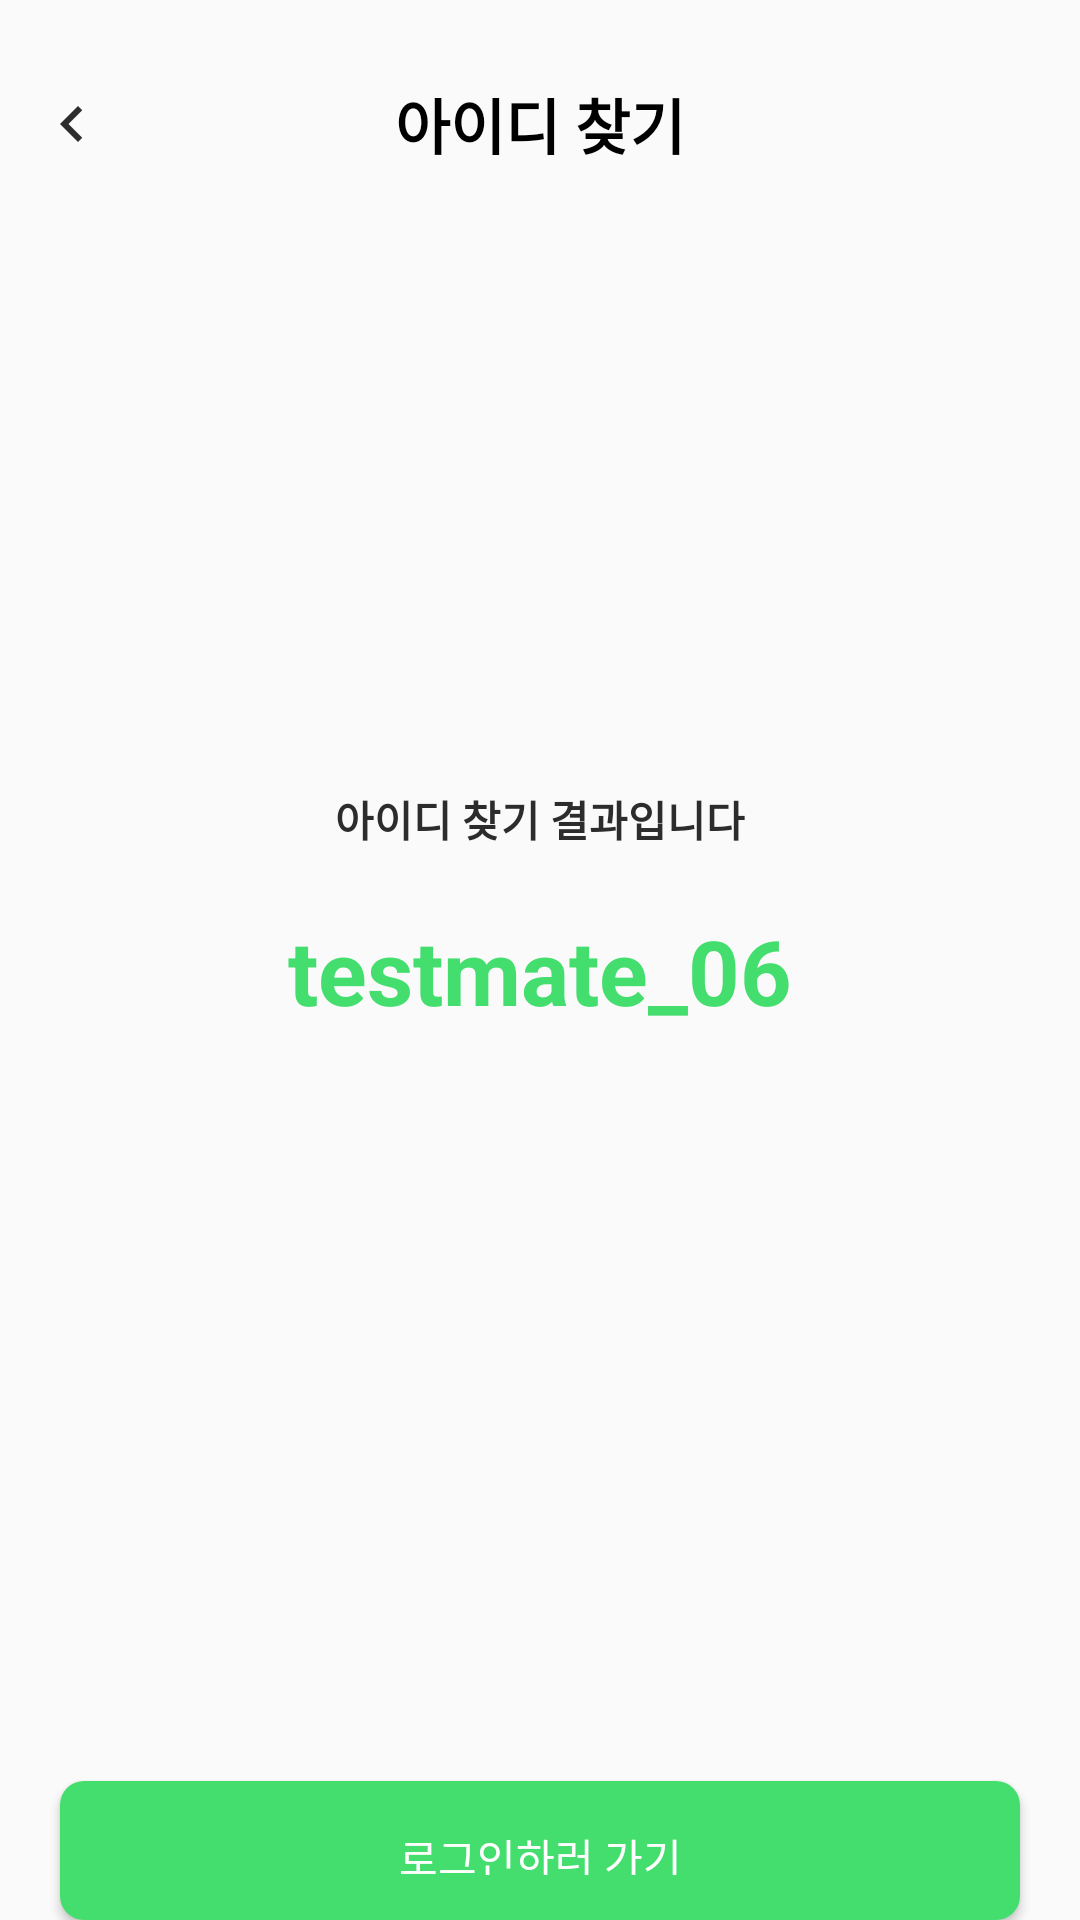

Named icons in this screenshot (1080 × 1920) and their centers, [x,y]:
before: [71,124]
